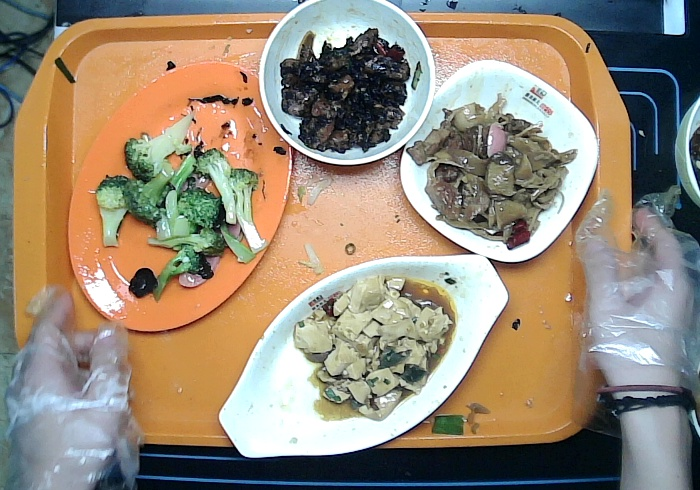NLDX-Bai_Se_Xiao_Fang_Die: (399, 58, 599, 264)
NLDX-Fan_Wan: (257, 1, 436, 167)
NLDX-Ju_Se_Pan: (67, 59, 295, 333)
NLDX-Yu_Pan: (217, 251, 510, 460)
